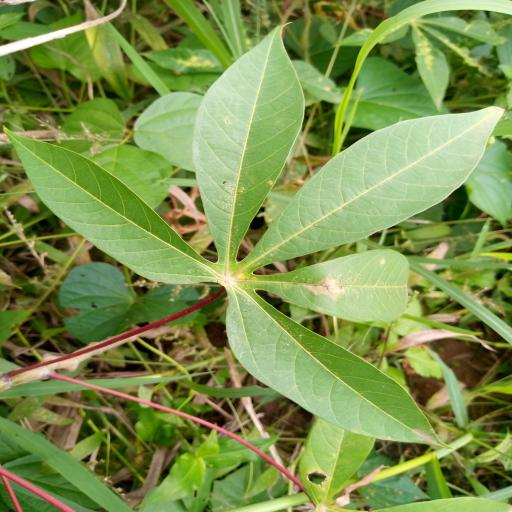Cassava_Healthy: (3, 22, 505, 444)
